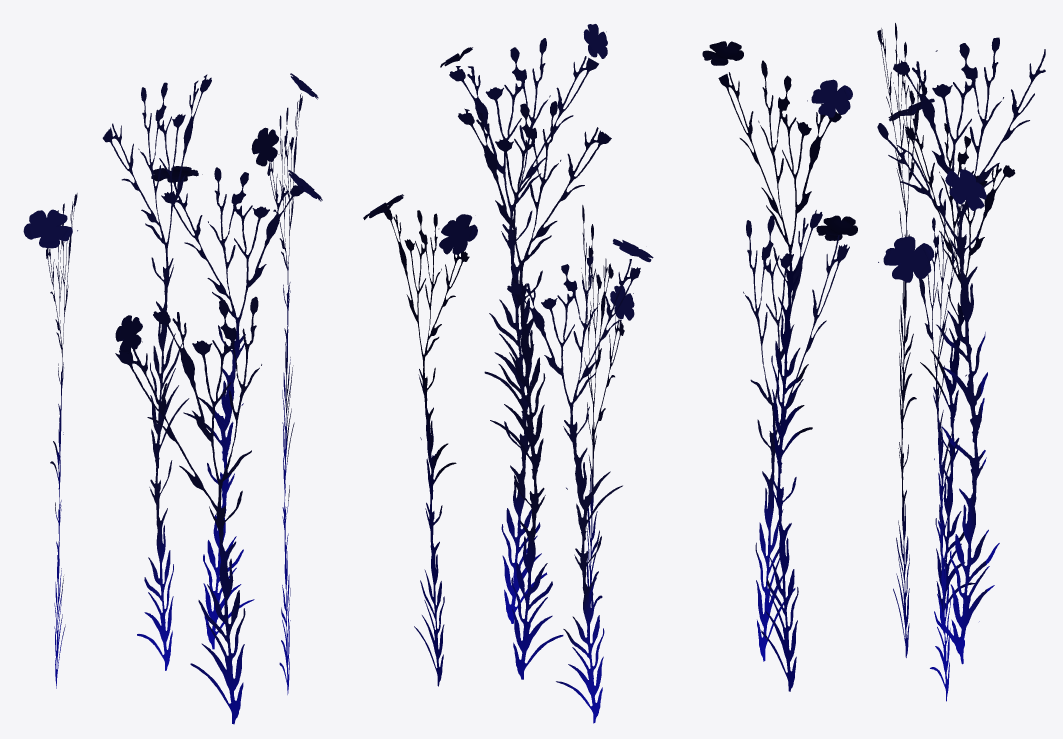
File: SM_Foliage_FlaxA_02.fbx
3 renders of one model, left to right at view 1: azimuth 30°, elevation 25°; view 2: azimuth 150°, elevation 25°; view 3: azimuth 270°, elevation 25°, orthographic. The views are drawn at different scales.
Visible parts, largest first — view 1: SM_Foliage_FlaxA_02; view 2: SM_Foliage_FlaxA_02; view 3: SM_Foliage_FlaxA_02.
Boxes of the visible parts, box(x1,y1,x2,y2) form: SM_Foliage_FlaxA_02: box(23, 73, 322, 724); SM_Foliage_FlaxA_02: box(363, 24, 653, 723); SM_Foliage_FlaxA_02: box(702, 23, 1045, 701).
Bounding box in the file's own units: 56.03 × 54.92 × 110.
